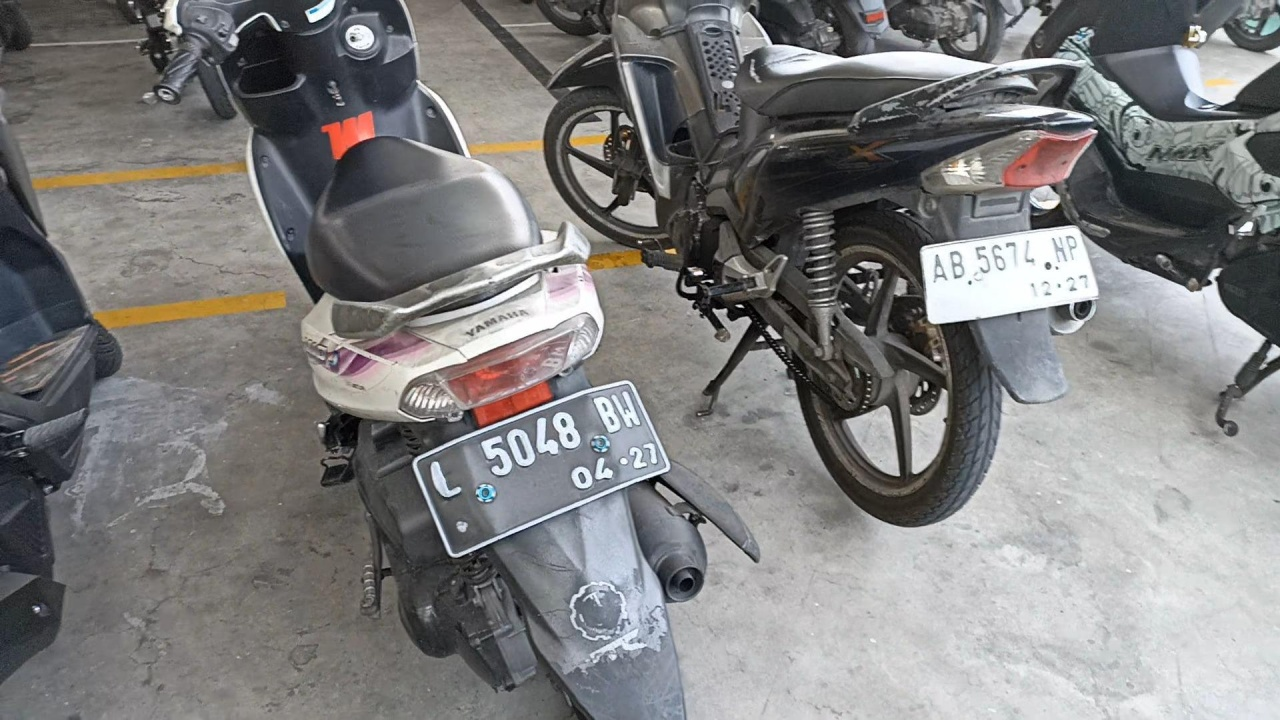plate: (412, 381, 672, 558)
